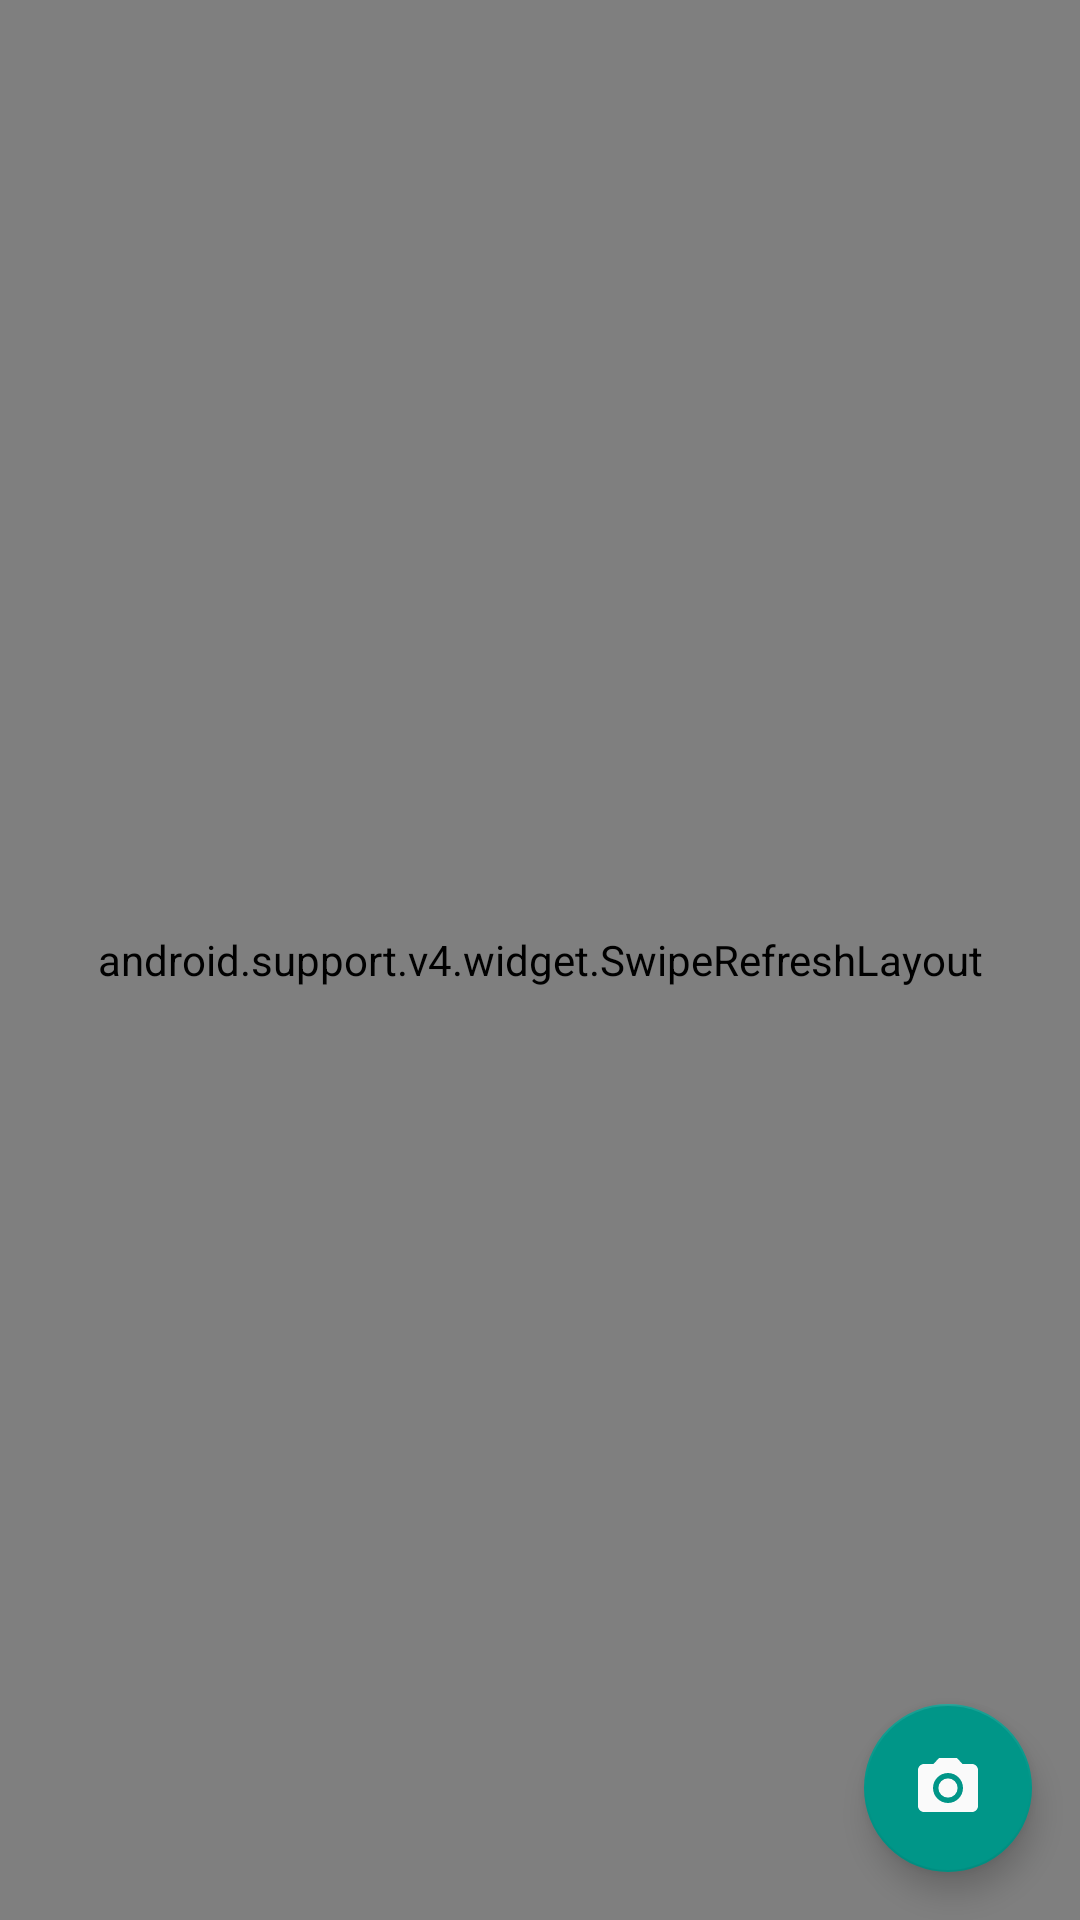

Icon click points for this 1080 x 1920 phone screenshot, format point (x, y):
camera: point (948, 1788)
